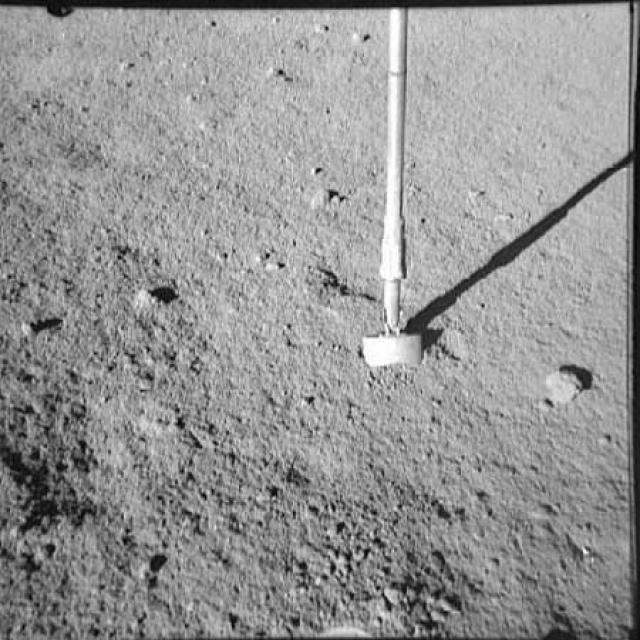rock: (536, 362, 587, 412), (121, 554, 175, 597), (127, 285, 180, 315), (12, 308, 49, 344), (306, 187, 349, 211), (342, 26, 379, 50), (264, 60, 286, 82)
